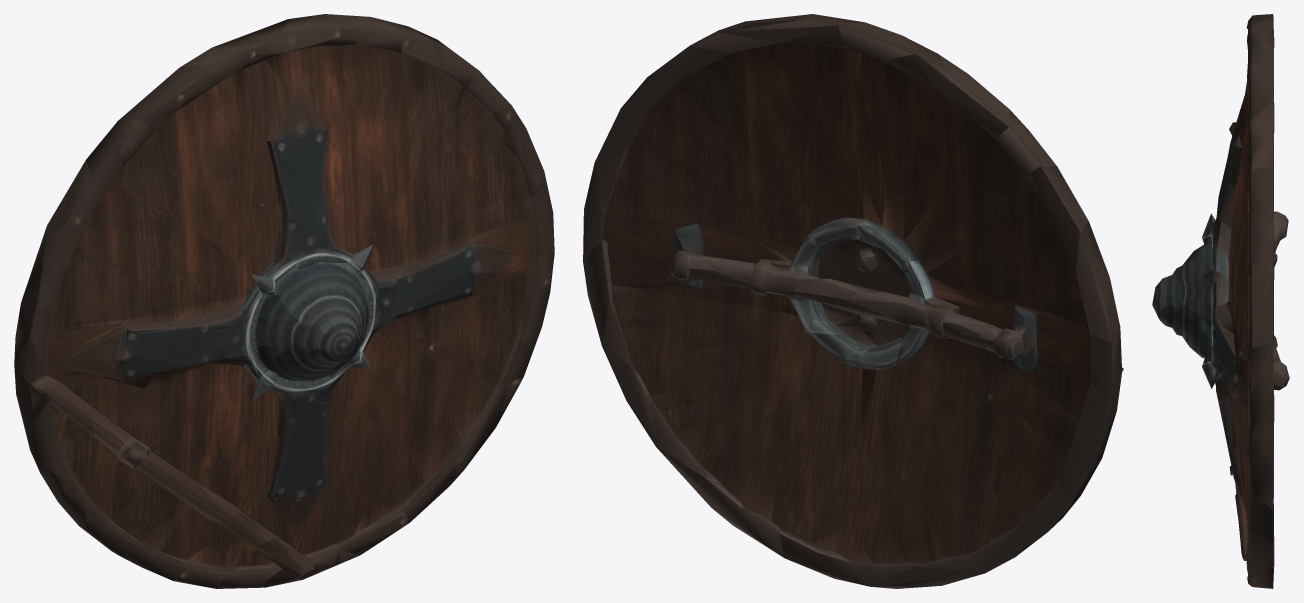
File: ice_shield.glb
3 views of the same model, side by side, from view 1: azimuth 30°, elevation 25°; view 2: azimuth 150°, elevation 25°; view 3: azimuth 270°, elevation 25° (orthographic). The views are drawn at different scales.
Visible parts, largest first — view 1: Mesh_0; view 2: Mesh_0; view 3: Mesh_0.
Part boxes in pixels (box(x1,y1,x2,y2)): Mesh_0: box(14, 14, 554, 588); Mesh_0: box(583, 14, 1123, 588); Mesh_0: box(1152, 14, 1289, 588).
Size of the model in its own units: 1.89 by 1.89 by 0.4511.
1 material, 1 textured.
